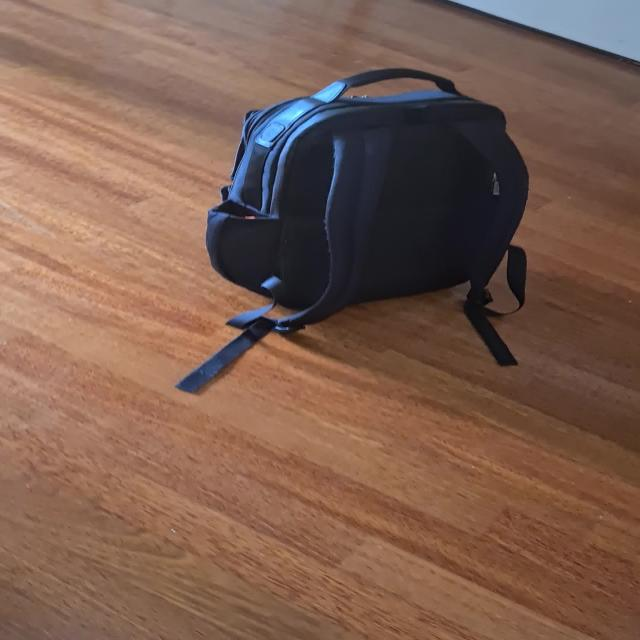backpack: (190, 57, 543, 330)
